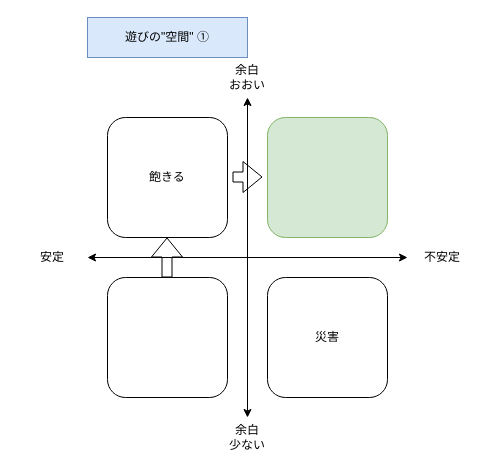
This 494x475 diagram has some shape labels left out. The shapes that lost their labels are listed below. From the top down, each one's centre as x and y in pixels, then its label:
pixel 327 177: 遊び
pixel 167 337: 定型の仕事 日常の作業
